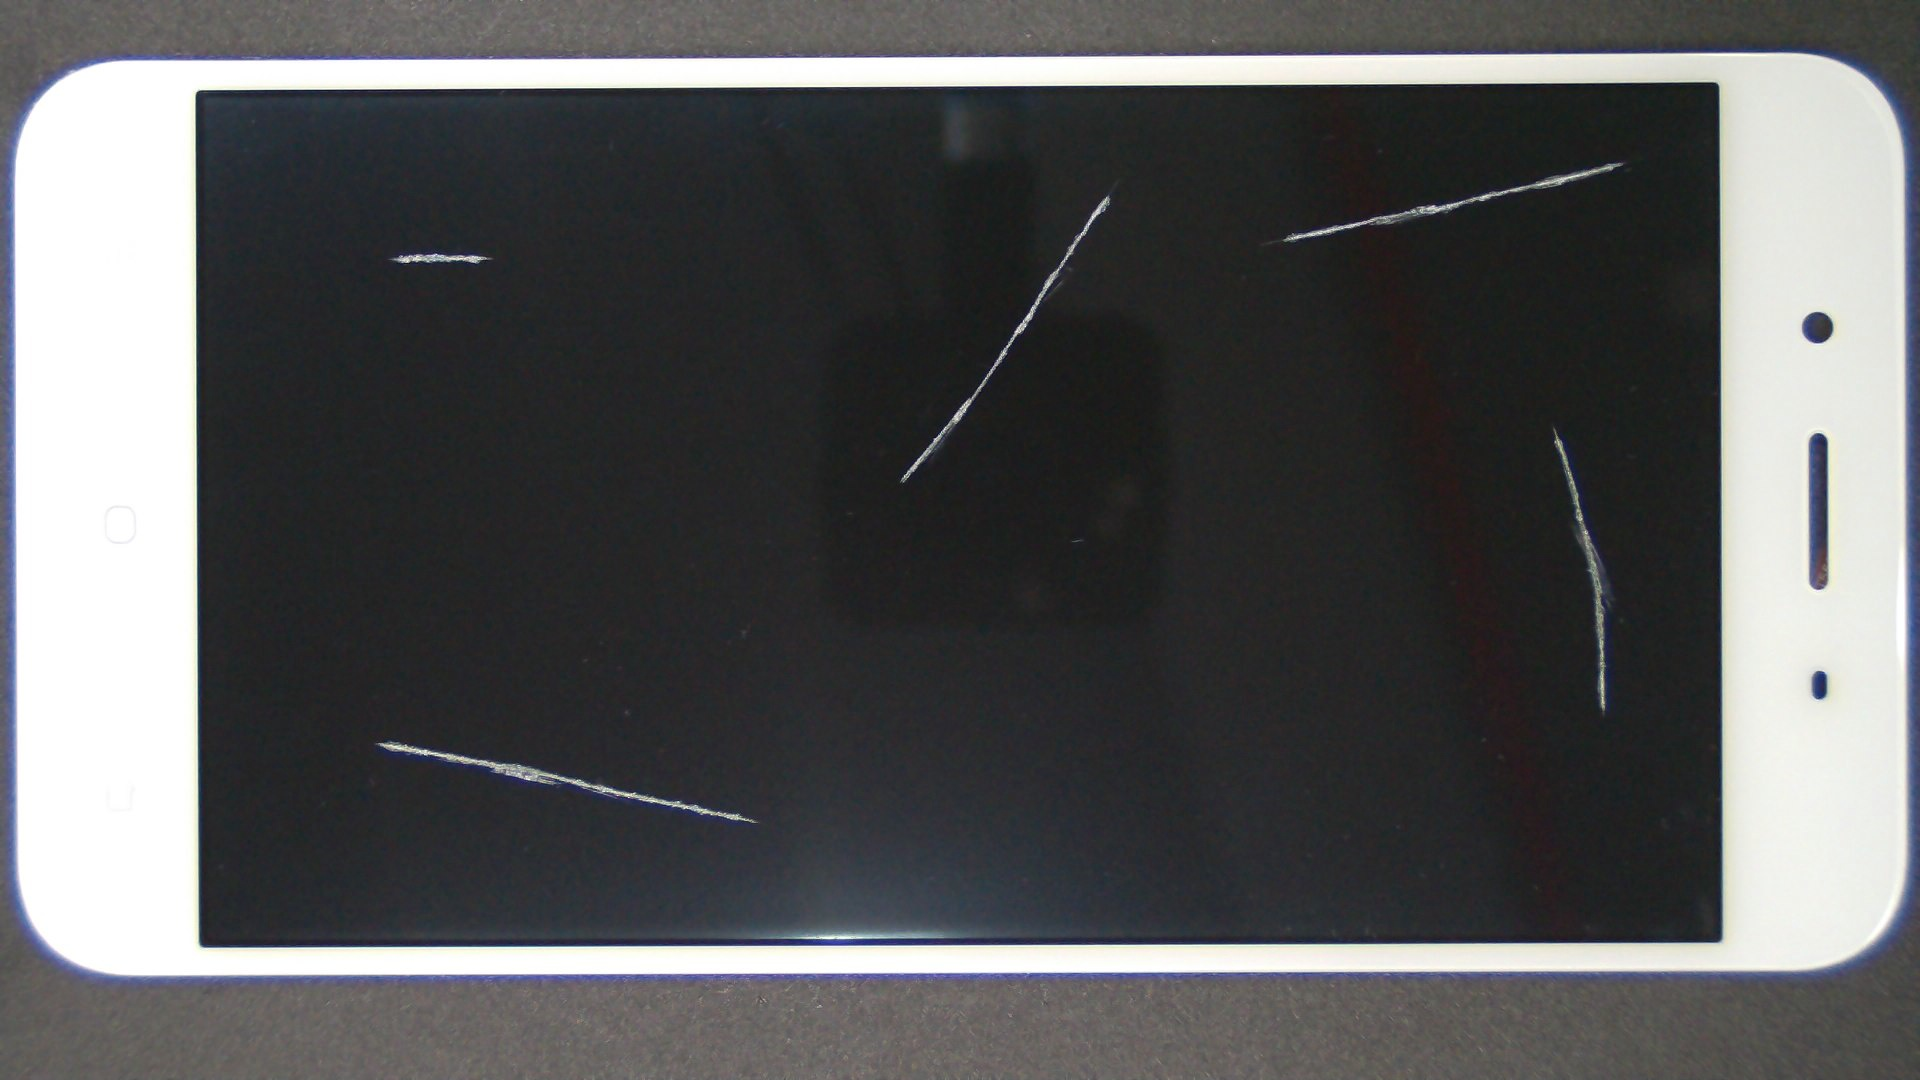oil: (775, 210, 1920, 641), (194, 371, 579, 1080), (555, 95, 1660, 291), (808, 80, 1920, 244), (219, 125, 655, 378)
